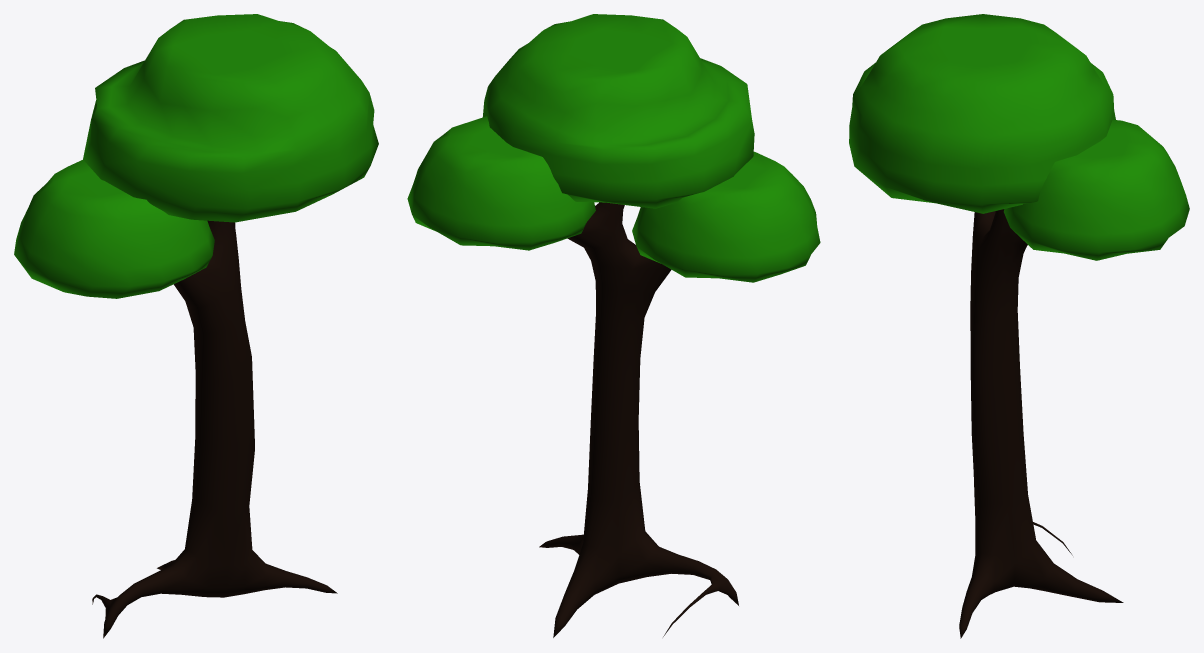
The model's file is SM_Giant_Tree_1.FBX.
The picture shows the model from 3 angles, left to right: view 1: azimuth 30°, elevation 25°; view 2: azimuth 150°, elevation 25°; view 3: azimuth 270°, elevation 25°; orthographic projection. The views are drawn at different scales.
Visible parts, largest first — view 1: SM_Giant_Tree_1; view 2: SM_Giant_Tree_1; view 3: SM_Giant_Tree_1.
Part boxes in pixels (x1=…): SM_Giant_Tree_1: x1=14, y1=14, x2=378, y2=638; SM_Giant_Tree_1: x1=407, y1=14, x2=820, y2=637; SM_Giant_Tree_1: x1=849, y1=14, x2=1189, y2=638.
Size of the model in its own units: 35.33 by 54.12 by 29.85.
